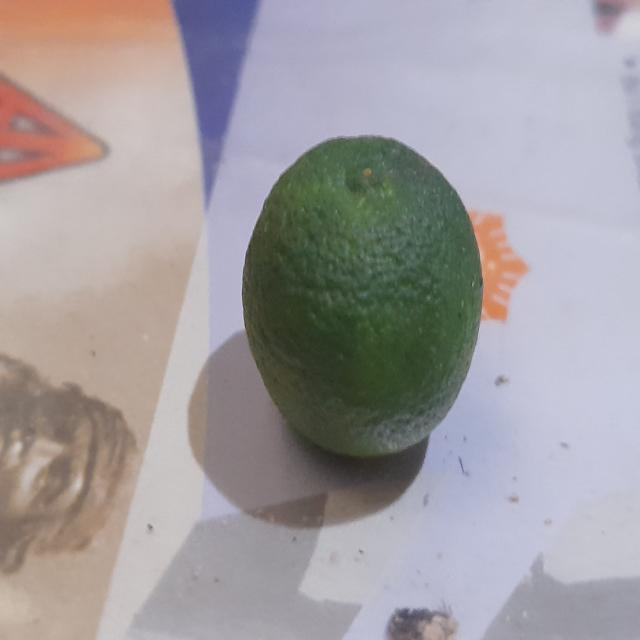heathy: (240, 132, 486, 465)
